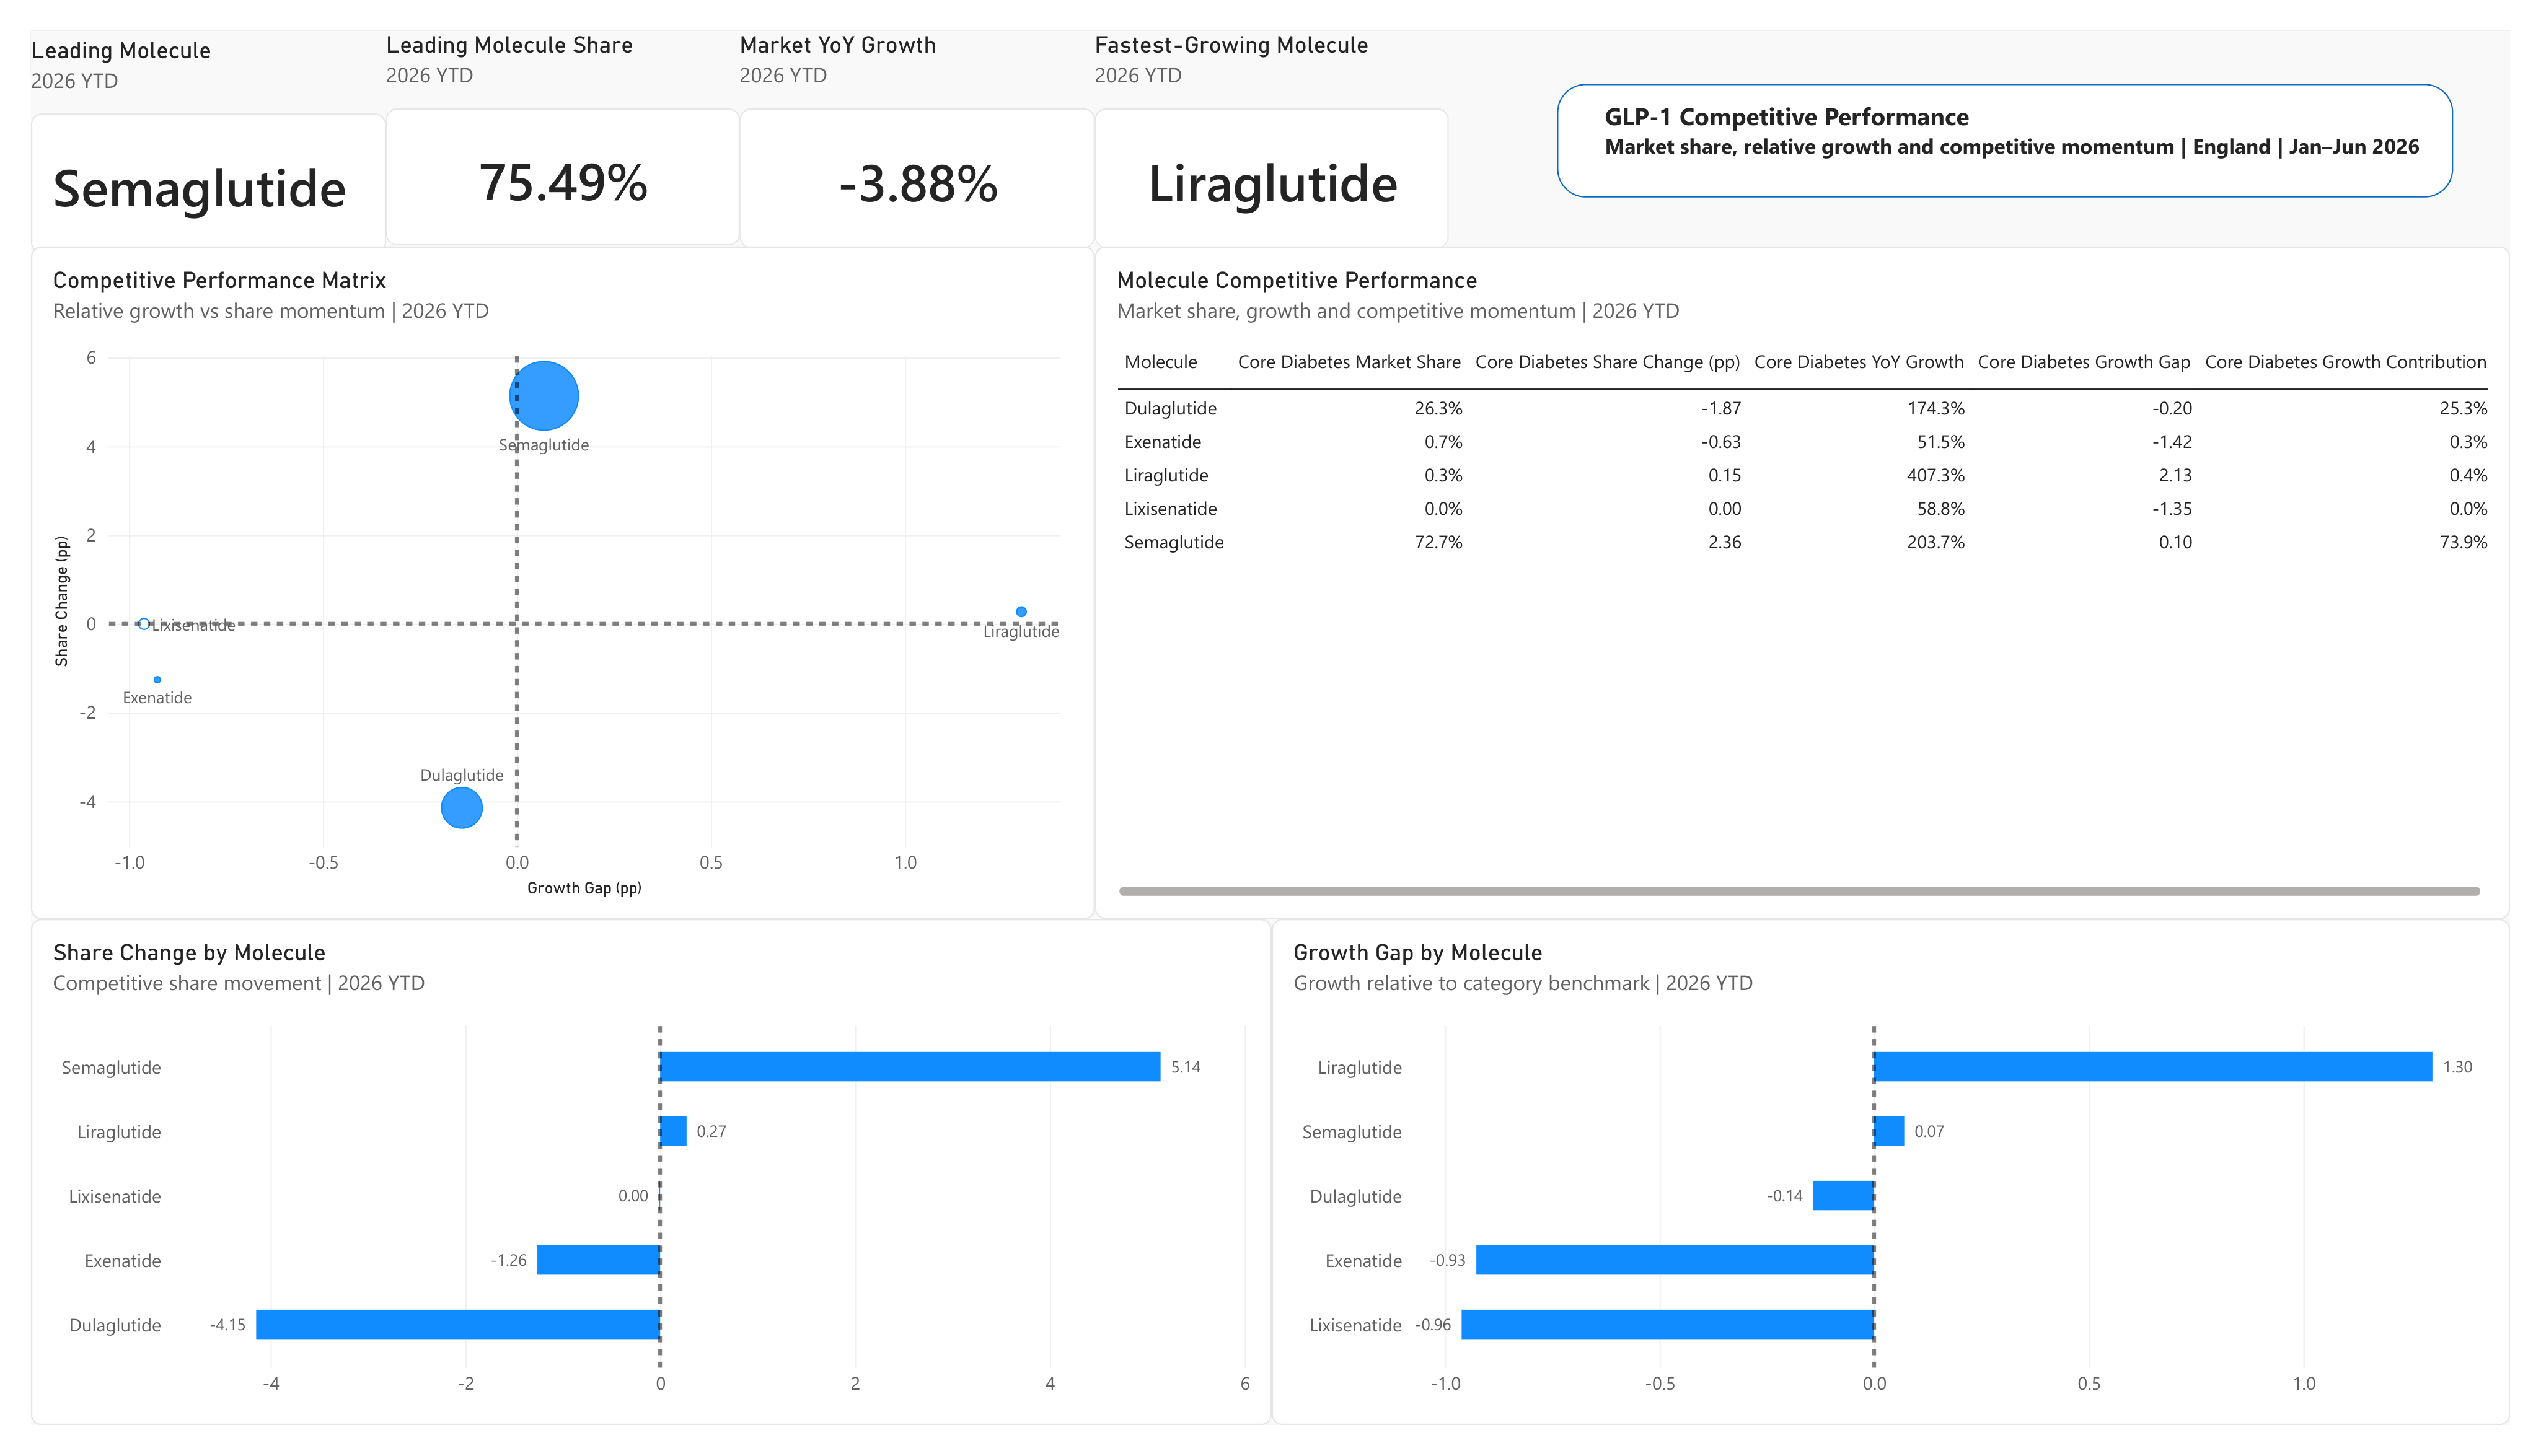

This screenshot's page, from the dashboard's own definition file:
{"tool":"powerbi","page":{"name":"Competitive Performance","canvas":[1920,1080],"ordinal":2},"visuals":[{"type":"cardVisual","title":"Leading Molecule","fields":{"Data":["Measure Table.Leading Molecule"]},"box":[0,3.9,274.5,169.1],"z":0},{"type":"shape","box":[1182.4,41.2,694.1,88.2],"z":0,"group":"g1"},{"type":"cardVisual","title":"Leading Molecule Share","fields":{"Data":["Measure Table.Leading Molecule Market Share"]},"box":[274.5,0,274.5,167.3],"z":1000},{"type":"textbox","box":[1219.7,53,656.9,66.7],"z":1000,"group":"g1"},{"type":"cardVisual","title":"Market YoY Growth","fields":{"Data":["Measure Table.Core Diabetes Market YoY Growth"]},"box":[549,0,274.5,169.1],"z":2000},{"type":"cardVisual","title":"Fastest-Growing Molecule","fields":{"Data":["Measure Table.Top Molecule Share"]},"box":[823.5,0,274.5,169.1],"z":3000},{"type":"scatterChart","title":"Competitive Performance Matrix","fields":{"Category":["Dim_Product.Molecule"],"Size":["Measure Table.Core Diabetes Items"],"X":["Measure Table.Core Diabetes Growth Gap"],"Y":["Measure Table.Core Diabetes Share Change (pp)"]},"box":[0,166.7,823.5,521.6],"z":4000},{"type":"tableEx","title":"Molecule Competitive Performance","fields":{"Values":["Dim_Product.Molecule","Measure Table.Core Diabetes Market Share","Measure Table.Core Diabetes Share Change (pp)","Measure Table.Core Diabetes YoY Growth","Measure Table.Core Diabetes Growth Gap","Measure Table.Core Diabetes Growth Contribution"]},"box":[823.5,166.7,1096.1,521.6],"z":5000},{"type":"clusteredBarChart","title":"Share Change by Molecule","fields":{"Category":["Dim_Product.Molecule"],"Y":["Measure Table.Core Diabetes Share Change (pp)"]},"box":[0,688.2,960.8,392.2],"z":6000},{"type":"group","id":"g1","title":"Group 1","box":[1182.4,41.2,694.1,88.2],"z":7000},{"type":"clusteredBarChart","title":"Growth Gap by Molecule","fields":{"Category":["Dim_Product.Molecule"],"Y":["Measure Table.Core Diabetes Growth Gap"]},"box":[960.8,688.2,958.8,392.2],"z":8000}]}

Visuals, with their boxes on the page's 1920x1080 design canvas (x1, y1, x2, y2). These are canvas units, not pixel positions in the 2541x1456 screenshot, which may show the page scaled, cropped or inside an application window:
"Leading Molecule" cardVisual: crop(0, 4, 274, 173)
shape: crop(1182, 41, 1876, 129)
"Leading Molecule Share" cardVisual: crop(274, 0, 549, 167)
textbox: crop(1220, 53, 1877, 120)
"Market YoY Growth" cardVisual: crop(549, 0, 824, 169)
"Fastest-Growing Molecule" cardVisual: crop(824, 0, 1098, 169)
"Competitive Performance Matrix" scatterChart: crop(0, 167, 824, 688)
"Molecule Competitive Performance" tableEx: crop(824, 167, 1920, 688)
"Share Change by Molecule" clusteredBarChart: crop(0, 688, 961, 1080)
"Group 1" group: crop(1182, 41, 1876, 129)
"Growth Gap by Molecule" clusteredBarChart: crop(961, 688, 1920, 1080)
